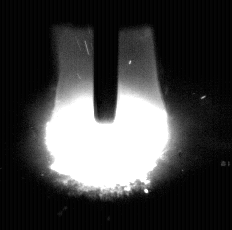arame: (95, 0, 117, 124)
poca: (43, 0, 170, 230)
